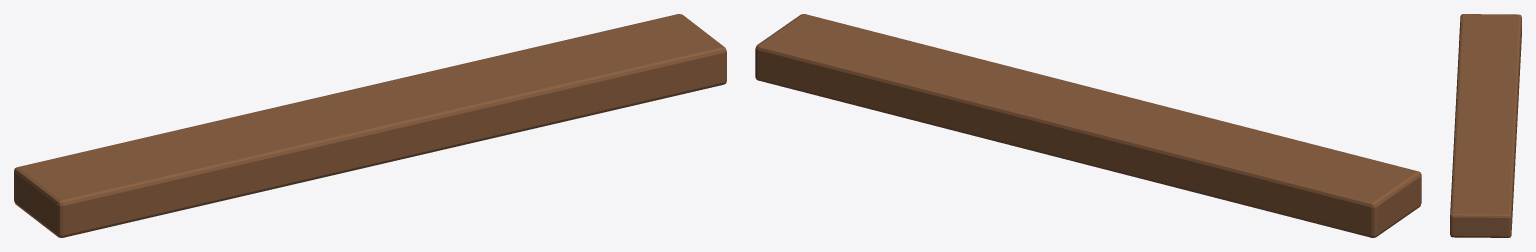
Rendered from SM_Interact_BridgePlank_002.fbx.
3 renders of one model, left to right at view 1: azimuth 30°, elevation 25°; view 2: azimuth 150°, elevation 25°; view 3: azimuth 270°, elevation 25°, orthographic. The views are drawn at different scales.
Parts seen in each view (by area): view 1: SM_Interact_BridgePlank_002; view 2: SM_Interact_BridgePlank_002; view 3: SM_Interact_BridgePlank_002.
Boxes of the visible parts, <box> form: SM_Interact_BridgePlank_002: <box>14,14,726,237</box>; SM_Interact_BridgePlank_002: <box>755,14,1421,237</box>; SM_Interact_BridgePlank_002: <box>1450,14,1521,237</box>.
Size of the model in its own units: 3.51 by 0.5257 by 0.19.
